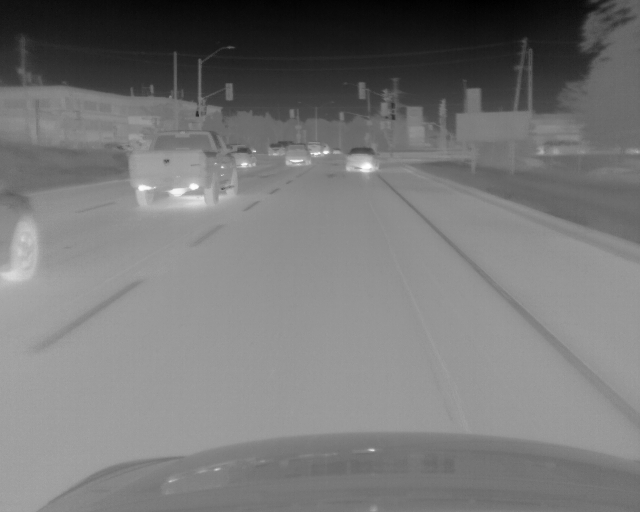car: (127, 131, 239, 206), (1, 188, 41, 284), (344, 147, 379, 172), (234, 144, 257, 169), (286, 144, 310, 165), (267, 144, 284, 156), (309, 142, 322, 156)
